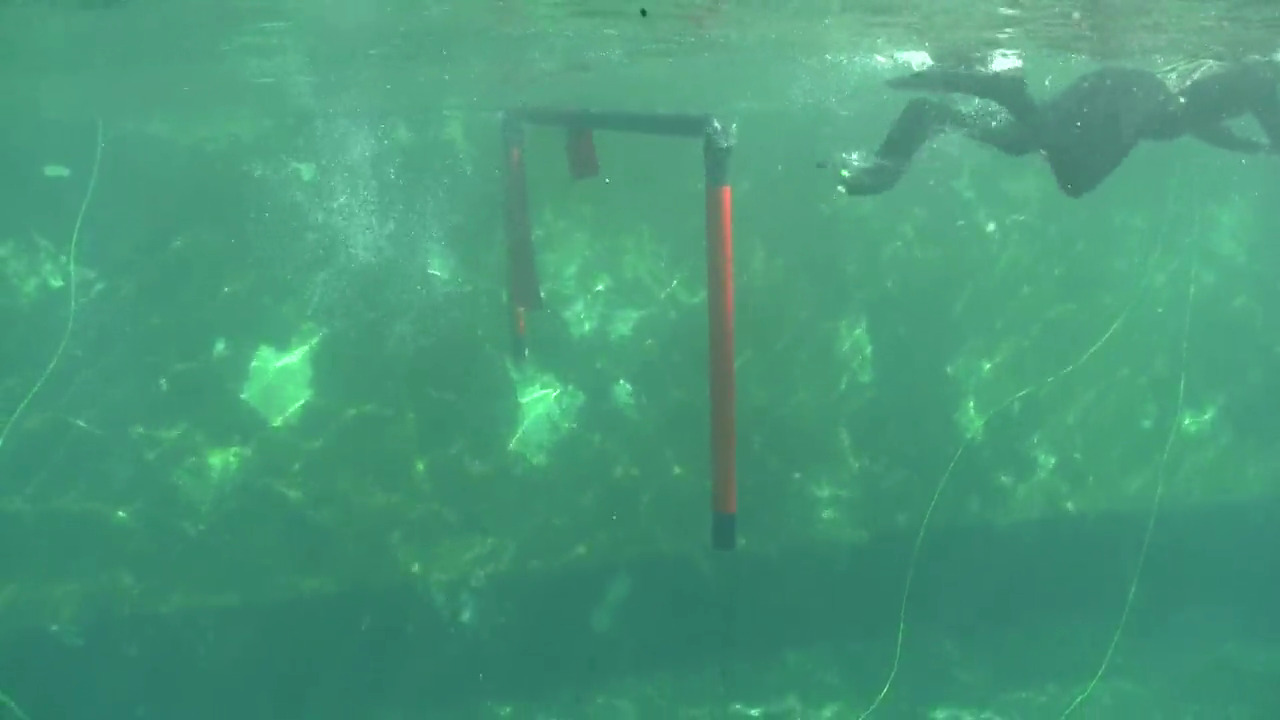gate: (476, 91, 770, 577)
